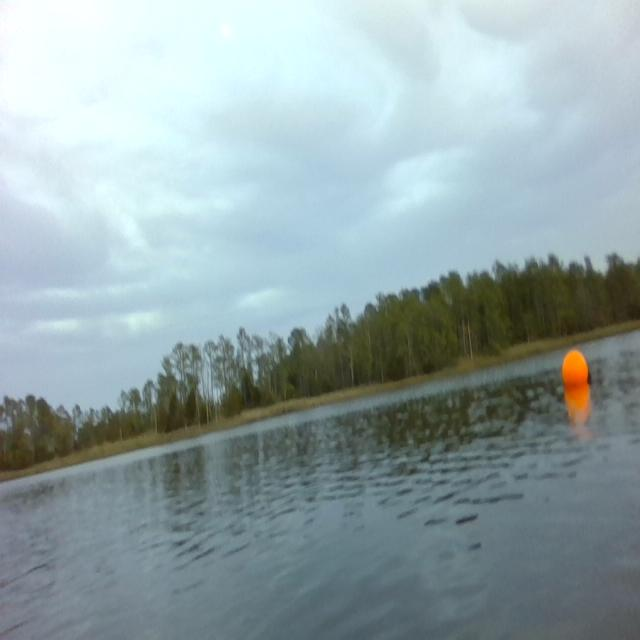Buoy: (559, 343, 594, 398)
